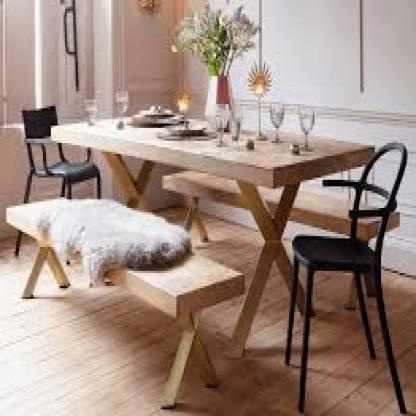Dining Table: (15, 98, 403, 316)
Wooden floor: (178, 277, 416, 416), (0, 256, 179, 416)
